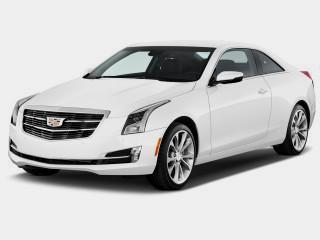cadillac: (44, 112, 67, 131)
